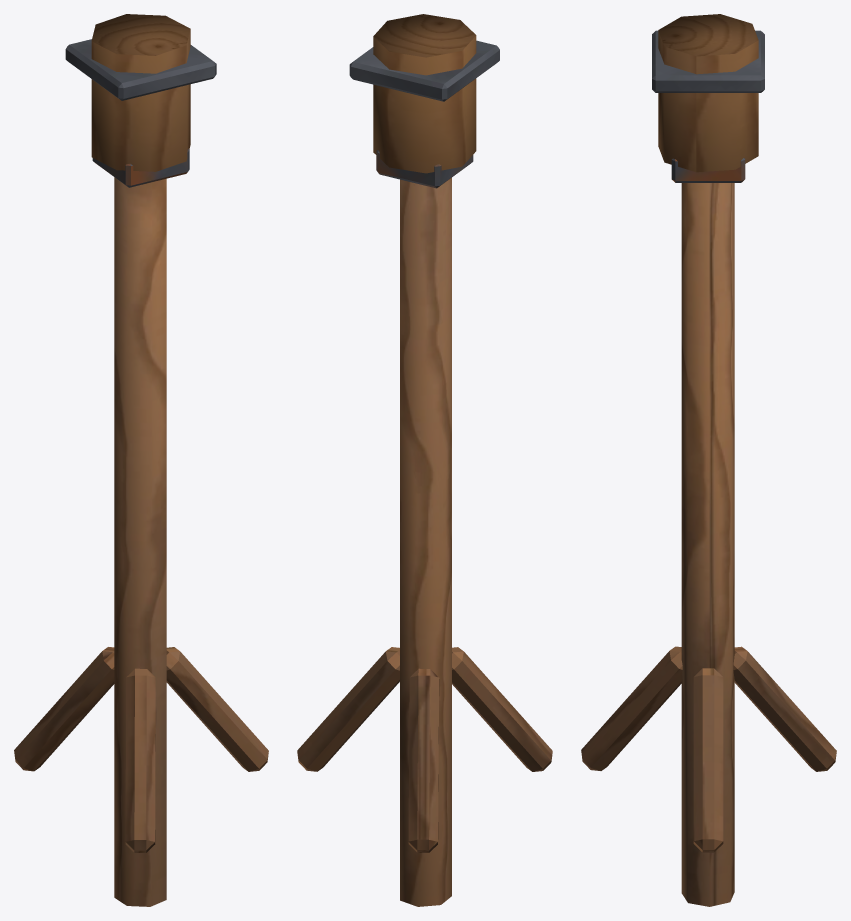
The model's file is mesale.glb.
The picture shows the model from 3 angles, left to right: view 1: azimuth 30°, elevation 25°; view 2: azimuth 150°, elevation 25°; view 3: azimuth 270°, elevation 25°; orthographic projection.
Visible parts, largest first — view 1: mesale; view 2: mesale; view 3: mesale.
Part boxes in pixels (left/top/right/bottom): mesale: left=14, top=14, right=268, bottom=906; mesale: left=297, top=14, right=552, bottom=906; mesale: left=581, top=14, right=836, bottom=906.
Bounding box in the file's own units: 0.4594 × 1.93 × 0.52.
Materials: 1 (1 with a texture image).
